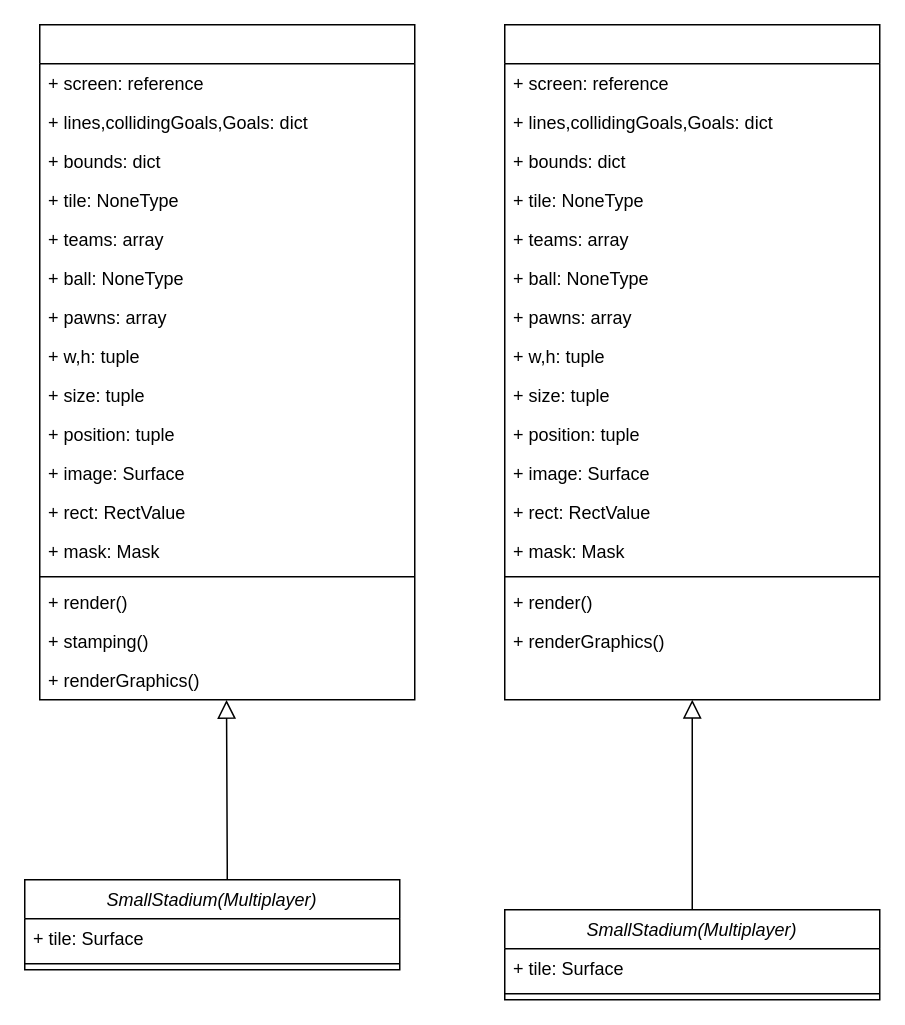
Image size: 905x1025. Some labels were removed from this diagram. The shapes that lost their labels are listed below. From the top down, each one's box as (x1, y1, x2, y2) in pixels, then its label:
(38, 23, 415, 700): Stadium(Client)
(503, 23, 880, 700): Stadium(Multiplayer)
